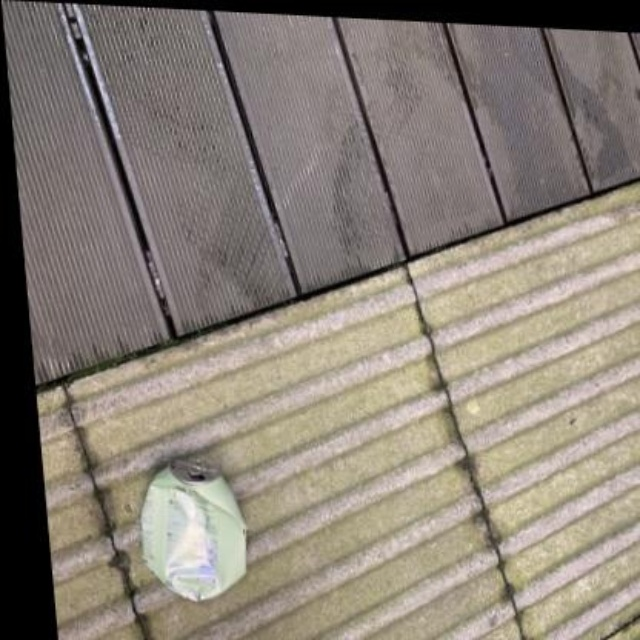trash: (142, 460, 245, 600)
